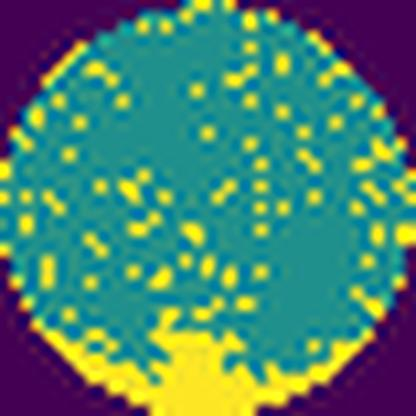Edge-Loc: (30, 309, 372, 416)
